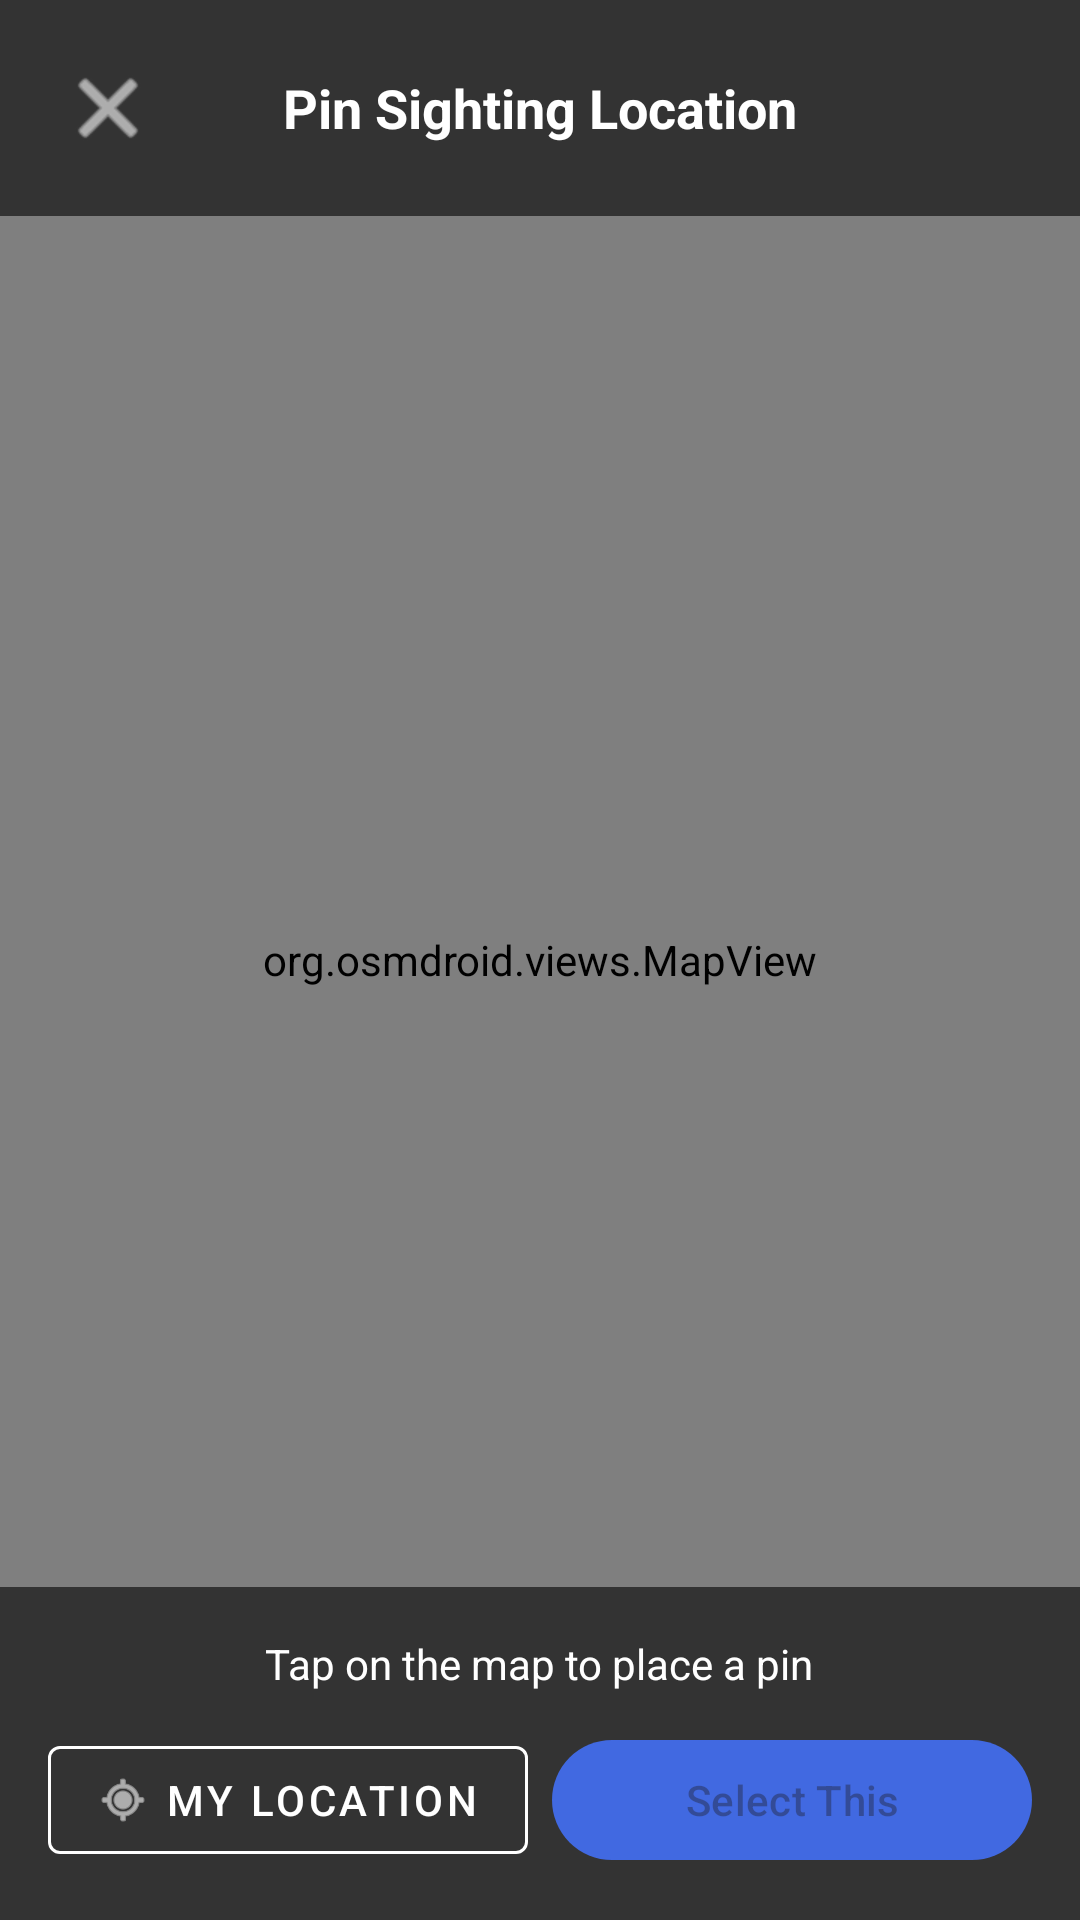

Where icons sit on this 1080 x 1920 app screen, as (left=x1, top=y1, right=x2, bottom=y2):
close clear cancel: (left=78, top=78, right=138, bottom=138)
